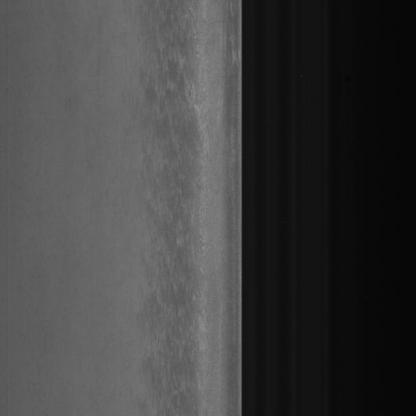silk_spot: (136, 33, 201, 364)
